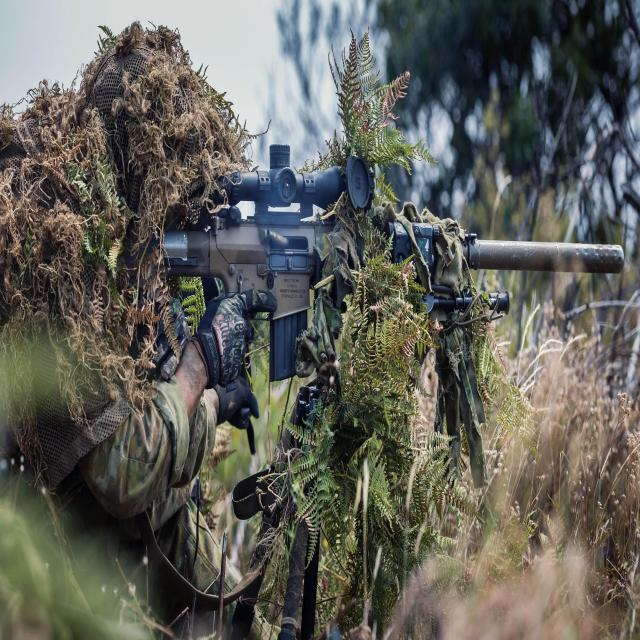Camouflage: (1, 24, 623, 598)
